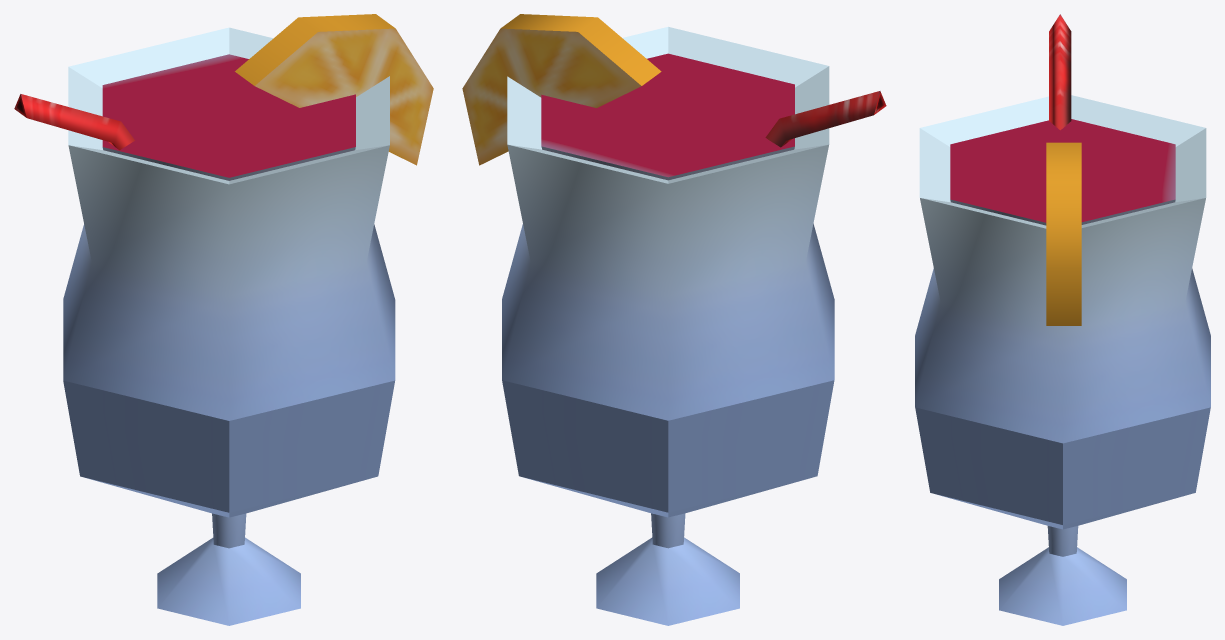
Rendered from Cocktail_05.FBX.
The picture shows the model from 3 angles, left to right: view 1: azimuth 30°, elevation 25°; view 2: azimuth 150°, elevation 25°; view 3: azimuth 270°, elevation 25°; orthographic projection. The views are drawn at different scales.
Visible parts, largest first — view 1: Cocktail_05; view 2: Cocktail_05; view 3: Cocktail_05.
Boxes of the visible parts, x1,y1,x2,y2 form: Cocktail_05: (14,14,433,625); Cocktail_05: (462,14,886,625); Cocktail_05: (915,14,1210,625).
Bounding box in the file's own units: 0.245 × 0.1738 × 0.3174.
